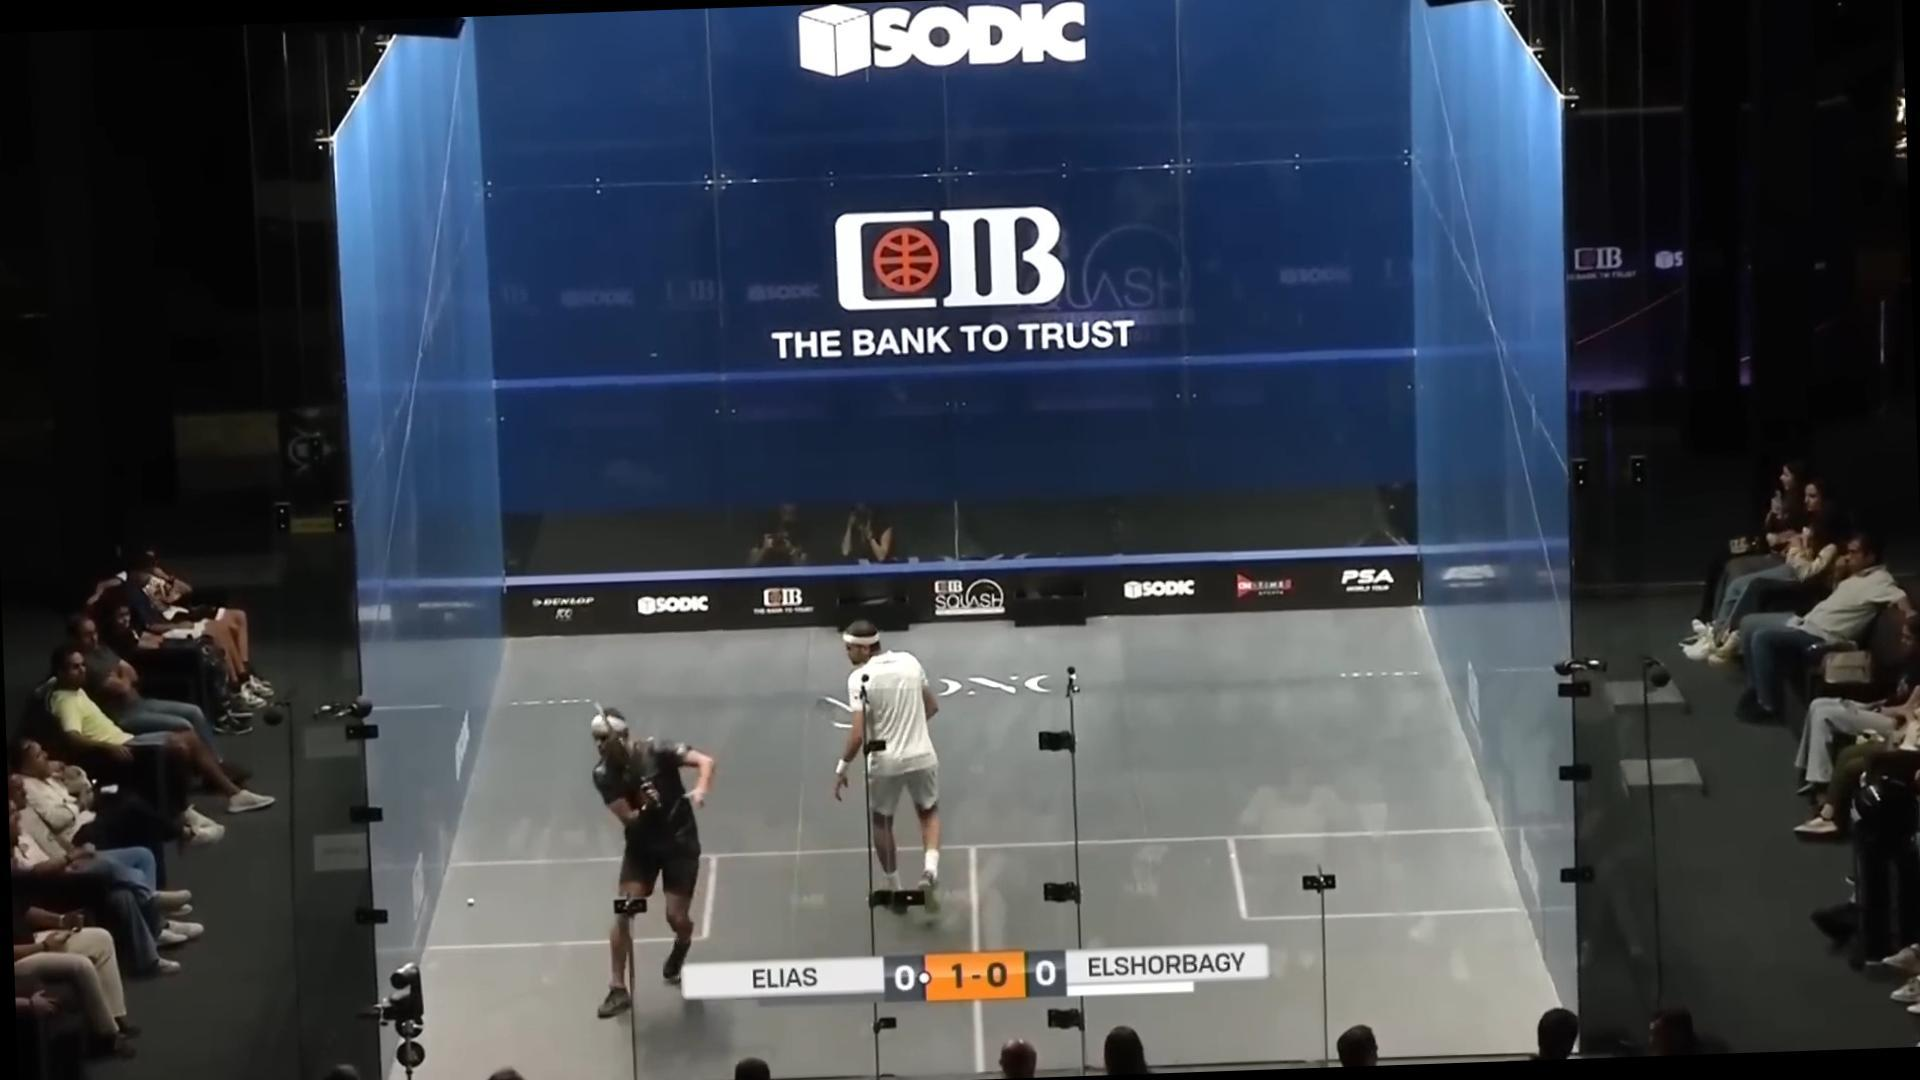Squash-Ball: (459, 882, 487, 923)
